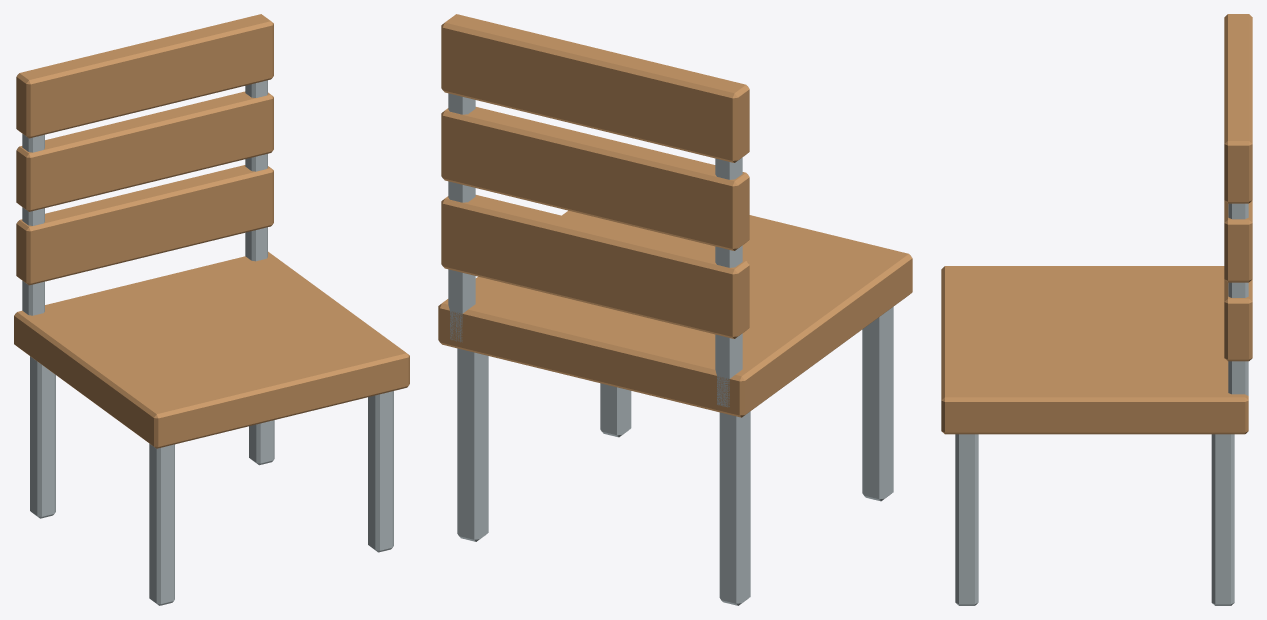
Rendered from edited-chair.inspection.glb.
3 renders of one model, left to right at view 1: azimuth 30°, elevation 25°; view 2: azimuth 150°, elevation 25°; view 3: azimuth 270°, elevation 25°, orthographic. The views are drawn at different scales.
Visible parts, largest first — view 1: furniture-batch-EXPORT_interior-oak-veneer-0, furniture-batch-EXPORT_landmark-brushed-aluminum-1; view 2: furniture-batch-EXPORT_interior-oak-veneer-0, furniture-batch-EXPORT_landmark-brushed-aluminum-1; view 3: furniture-batch-EXPORT_interior-oak-veneer-0, furniture-batch-EXPORT_landmark-brushed-aluminum-1.
Part boxes in pixels (bbox=[...]): furniture-batch-EXPORT_interior-oak-veneer-0: bbox=[14, 14, 409, 448]; furniture-batch-EXPORT_landmark-brushed-aluminum-1: bbox=[22, 80, 393, 605]; furniture-batch-EXPORT_interior-oak-veneer-0: bbox=[438, 14, 912, 417]; furniture-batch-EXPORT_landmark-brushed-aluminum-1: bbox=[448, 93, 893, 605]; furniture-batch-EXPORT_interior-oak-veneer-0: bbox=[941, 14, 1252, 434]; furniture-batch-EXPORT_landmark-brushed-aluminum-1: bbox=[955, 203, 1248, 605].
Size of the model in its own units: 0.62 by 1.01 by 0.6075.
